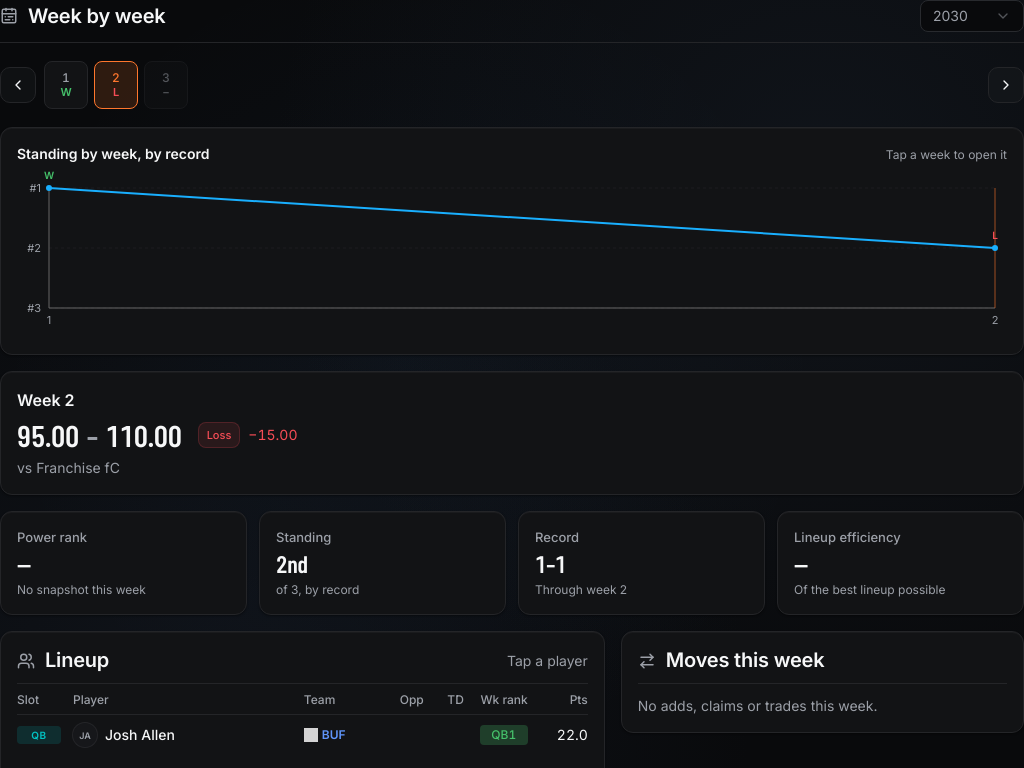
FranchiseWeekByWeek › opens a player’s sheet with their rank that week
The width and height of the screenshot is (1024, 768).
Click the button named "Week 1:". click: {"x": 66, "y": 85}
box: left=44, top=61, right=88, bottom=109
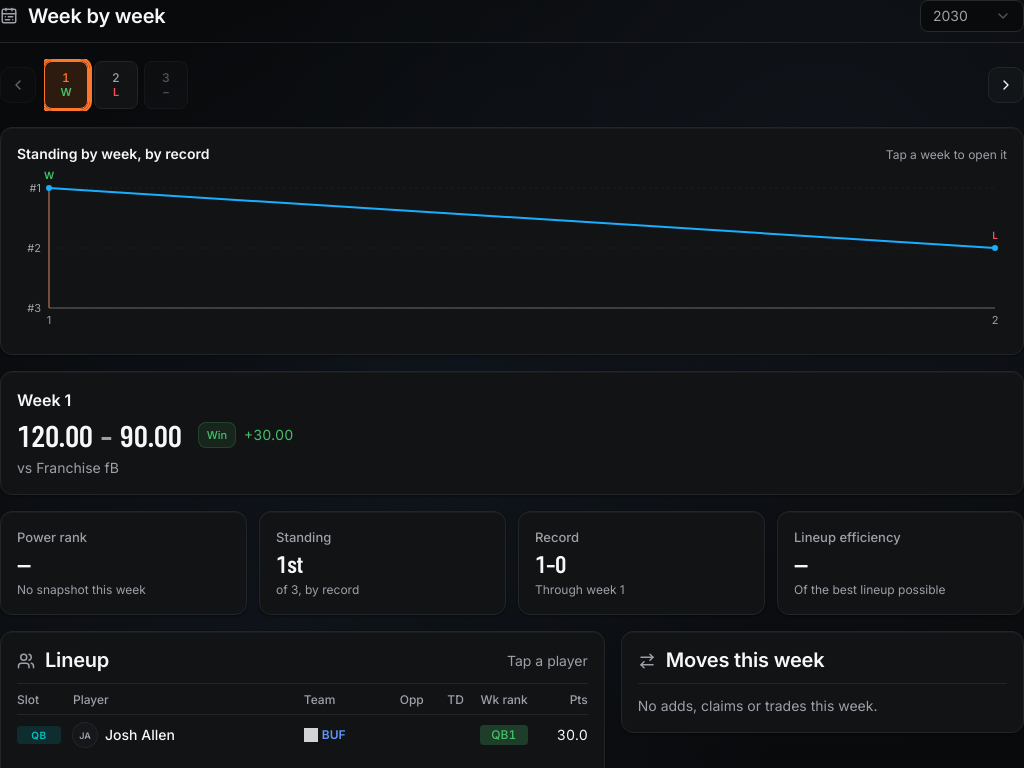
Click the button "QB JA Josh Allen BUF QB1 30.0". click: {"x": 302, "y": 735}
box: left=17, top=715, right=588, bottom=755
(page scrolled)
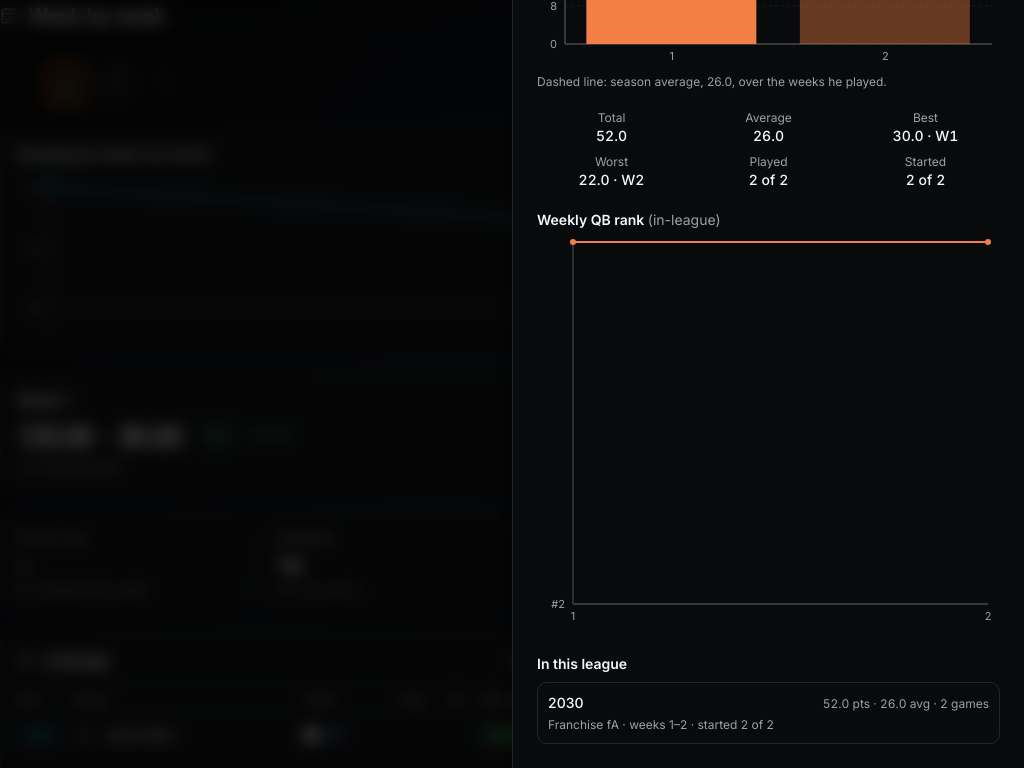
Check: the heading "In this league" is shown, box left=537, top=655, right=627, bottom=672
